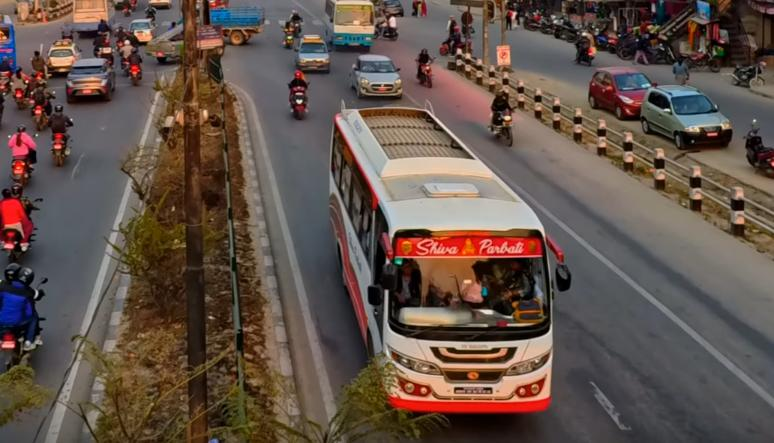bus: (319, 91, 570, 437)
